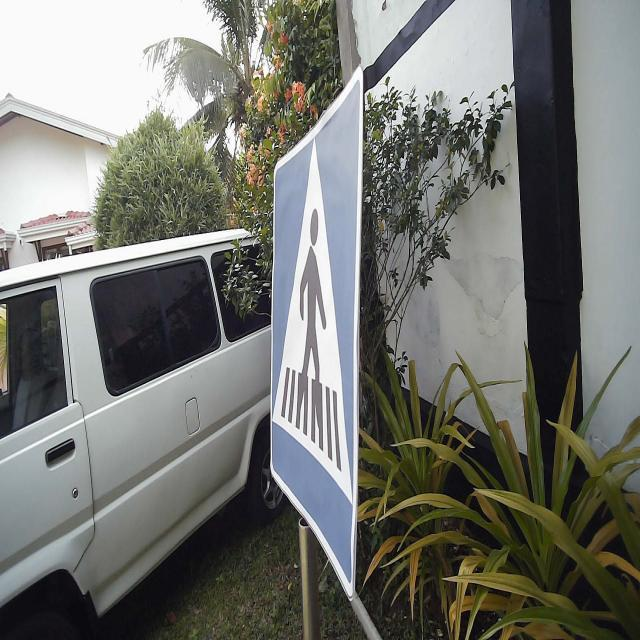crosswalk_sign: (268, 60, 366, 606)
